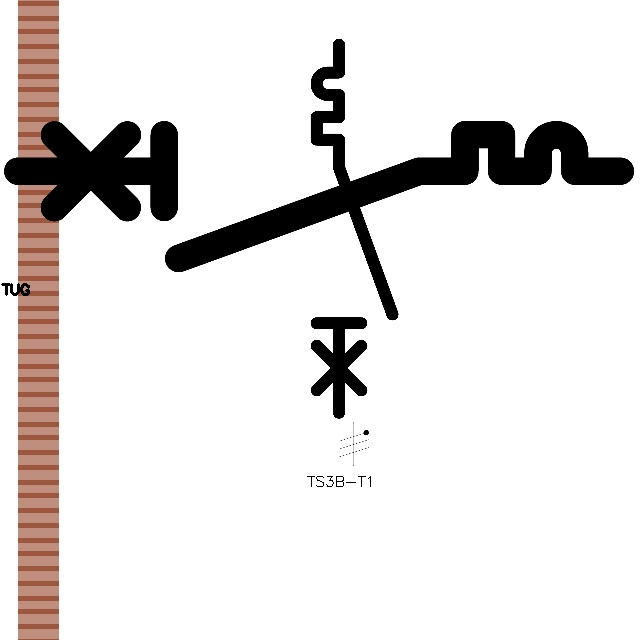interruptor_termomagnetico: (2, 119, 636, 274), (307, 35, 401, 422)
